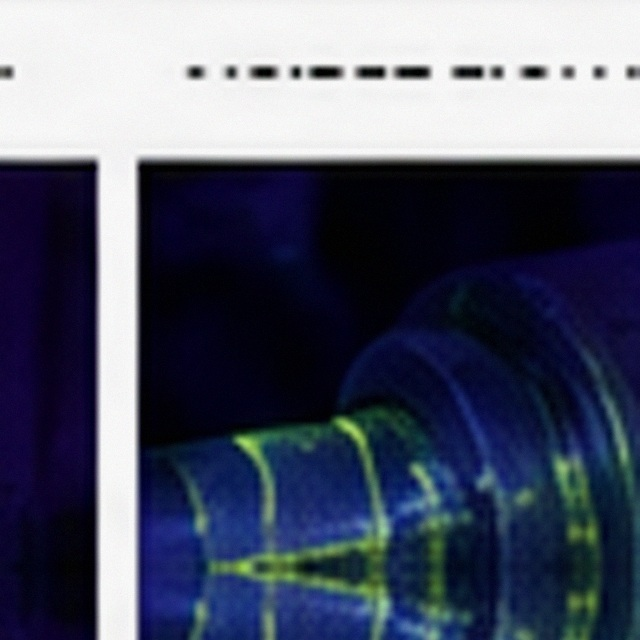hydraulic_oil_leak: (207, 521, 390, 596), (233, 427, 322, 487), (333, 417, 382, 511), (419, 496, 471, 563), (551, 453, 577, 493), (410, 454, 433, 484), (514, 487, 540, 506), (188, 484, 202, 515), (481, 475, 491, 487), (430, 571, 441, 581), (606, 397, 613, 404), (503, 506, 507, 512), (496, 491, 499, 497), (205, 517, 207, 520)
